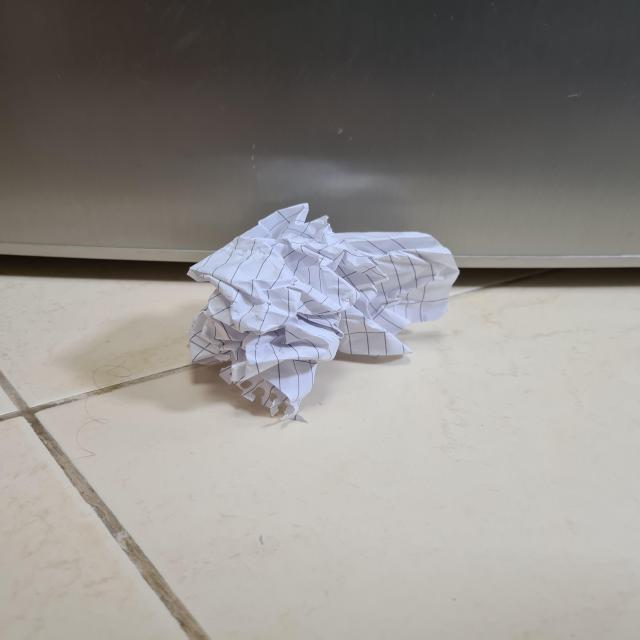cardboard paper: (187, 202, 457, 415)
